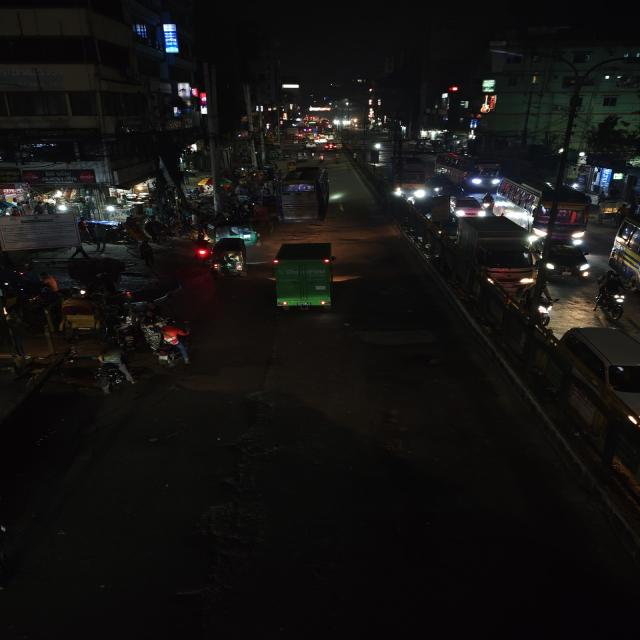bus: (499, 175, 594, 240), (276, 165, 334, 226), (608, 209, 640, 297), (436, 152, 500, 188)
car: (552, 324, 640, 442), (536, 237, 593, 282), (446, 194, 485, 218)
cng: (203, 238, 250, 278), (225, 217, 261, 242)
motorcycle: (504, 280, 558, 330), (146, 316, 195, 369), (594, 274, 628, 322), (91, 359, 130, 395), (113, 317, 142, 351)
rickshaw: (57, 299, 110, 341), (596, 195, 626, 223)
truck: (456, 215, 540, 287), (268, 239, 339, 317), (384, 154, 428, 202)
